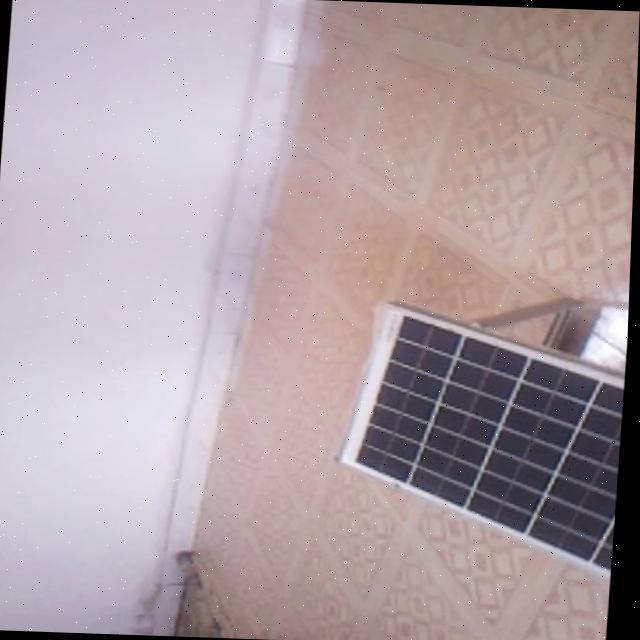Normal Solar Panel: (332, 301, 632, 597)
